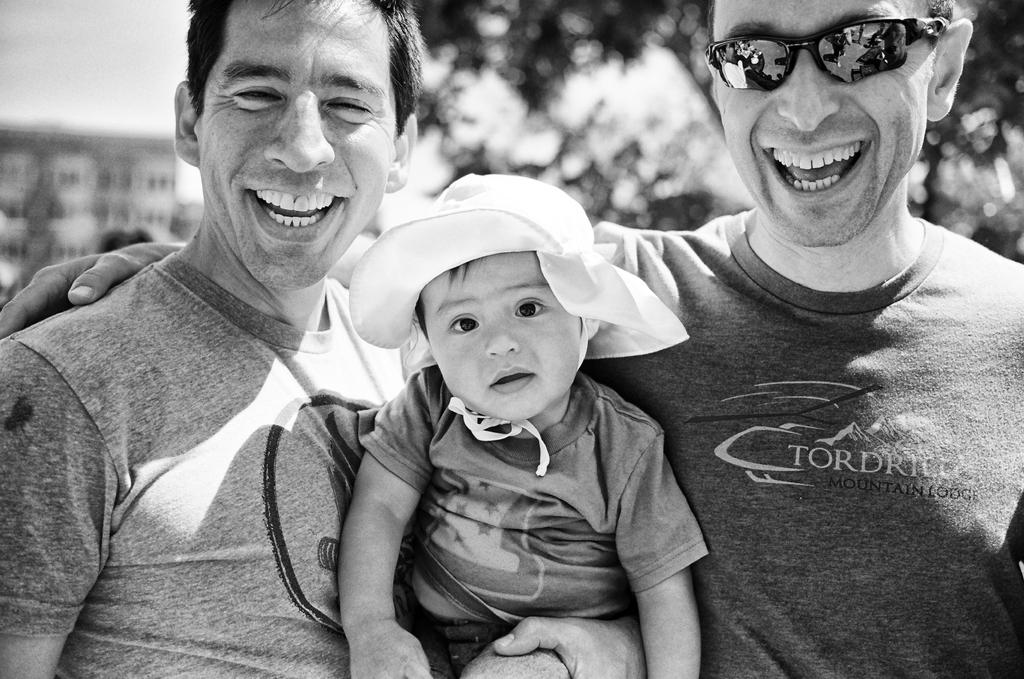Hat: (348, 172, 686, 480)
